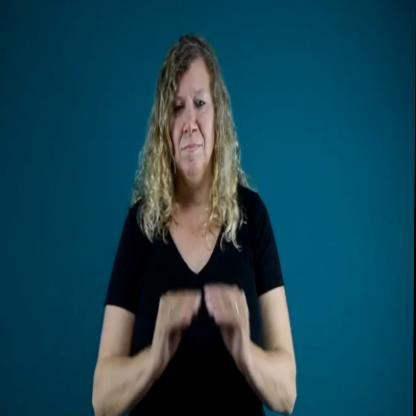Fix: (92, 29, 300, 416)
